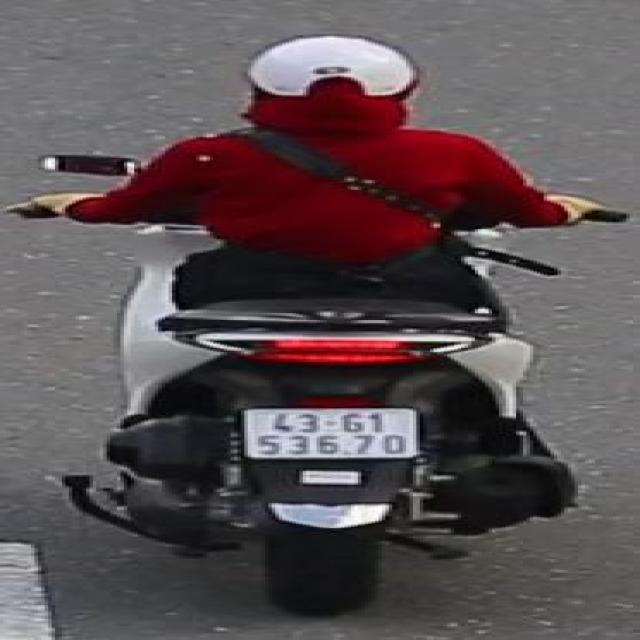LP: (236, 401, 425, 464)
helmet: (238, 30, 430, 145)
